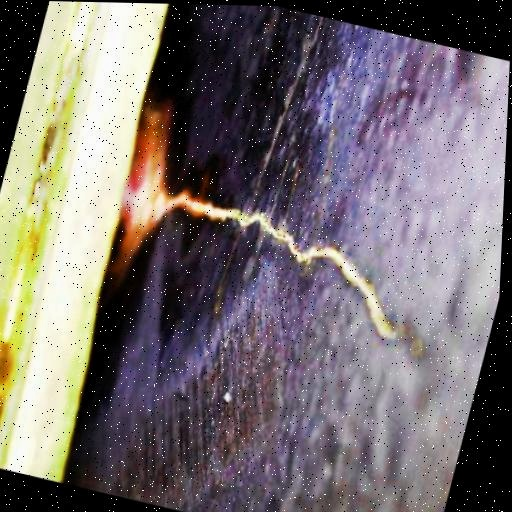crack: (333, 226, 507, 372)
